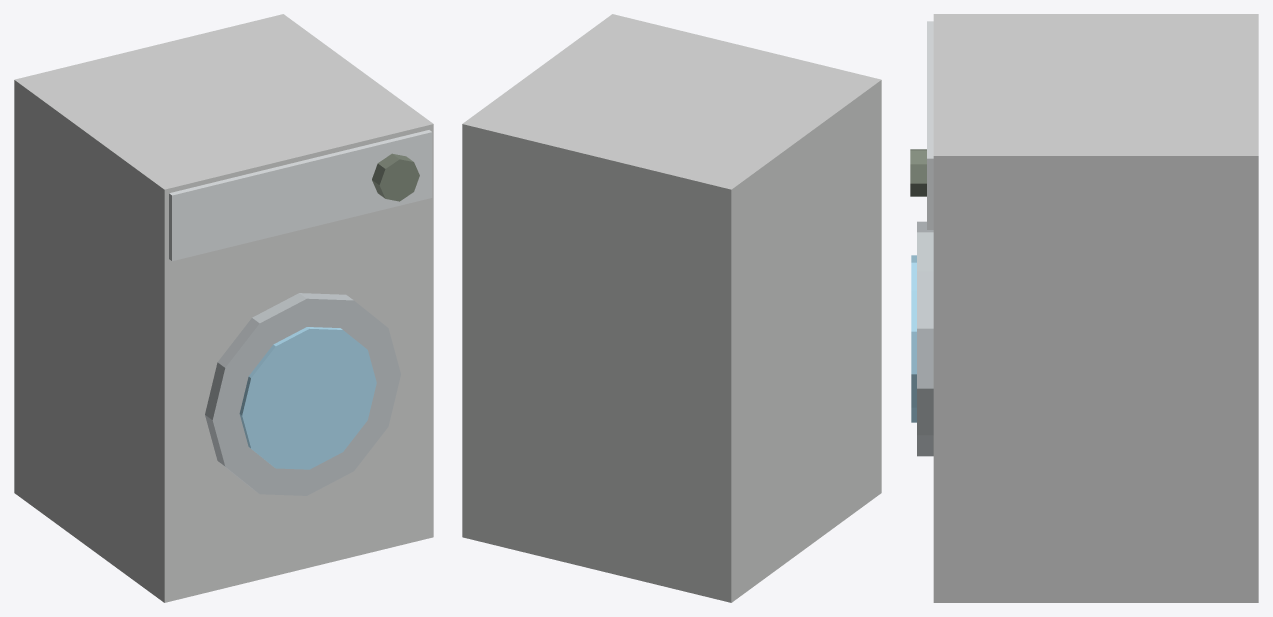
The model's file is mosogep.glb.
The picture shows the model from 3 angles, left to right: view 1: azimuth 30°, elevation 25°; view 2: azimuth 150°, elevation 25°; view 3: azimuth 270°, elevation 25°; orthographic projection. The views are drawn at different scales.
Size of the model in its own units: 0.6 by 0.88 by 0.622.
